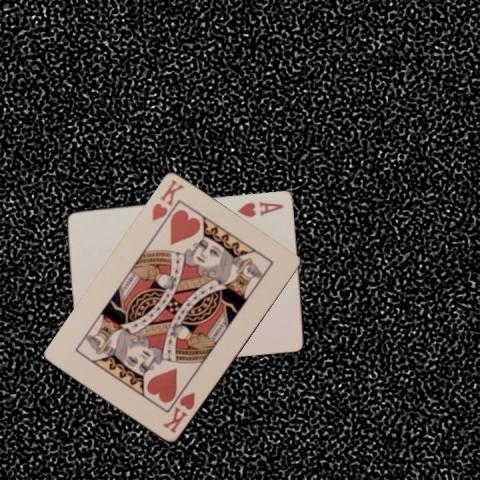Ah: (235, 198, 284, 218)
Kh: (160, 389, 197, 435), (149, 177, 185, 223)
